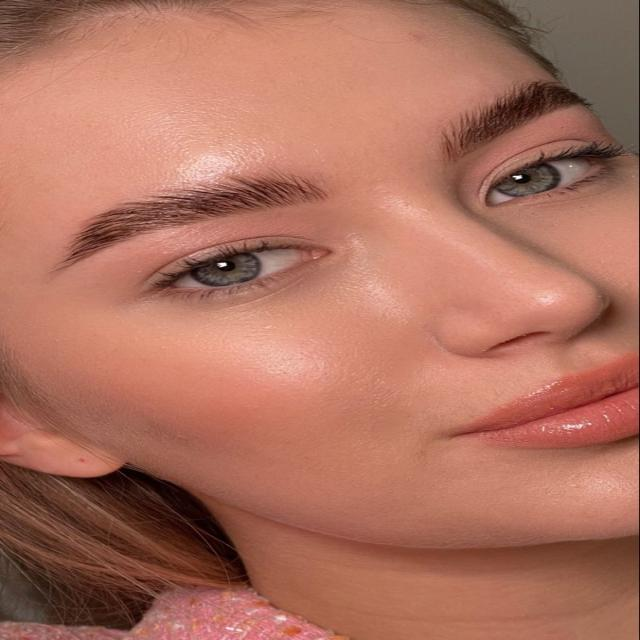Oily-Skin: (355, 216, 543, 342), (222, 340, 394, 442), (471, 447, 640, 542), (329, 269, 476, 359), (127, 121, 293, 187)
